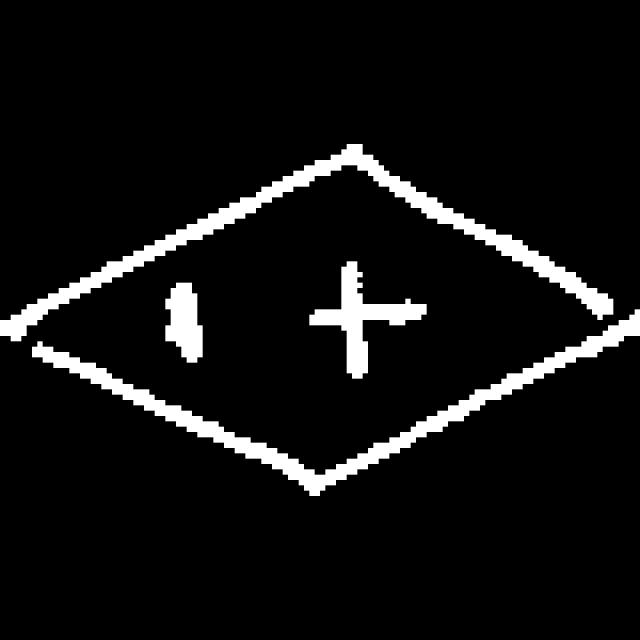dependant_voltage: (0, 144, 640, 496)
